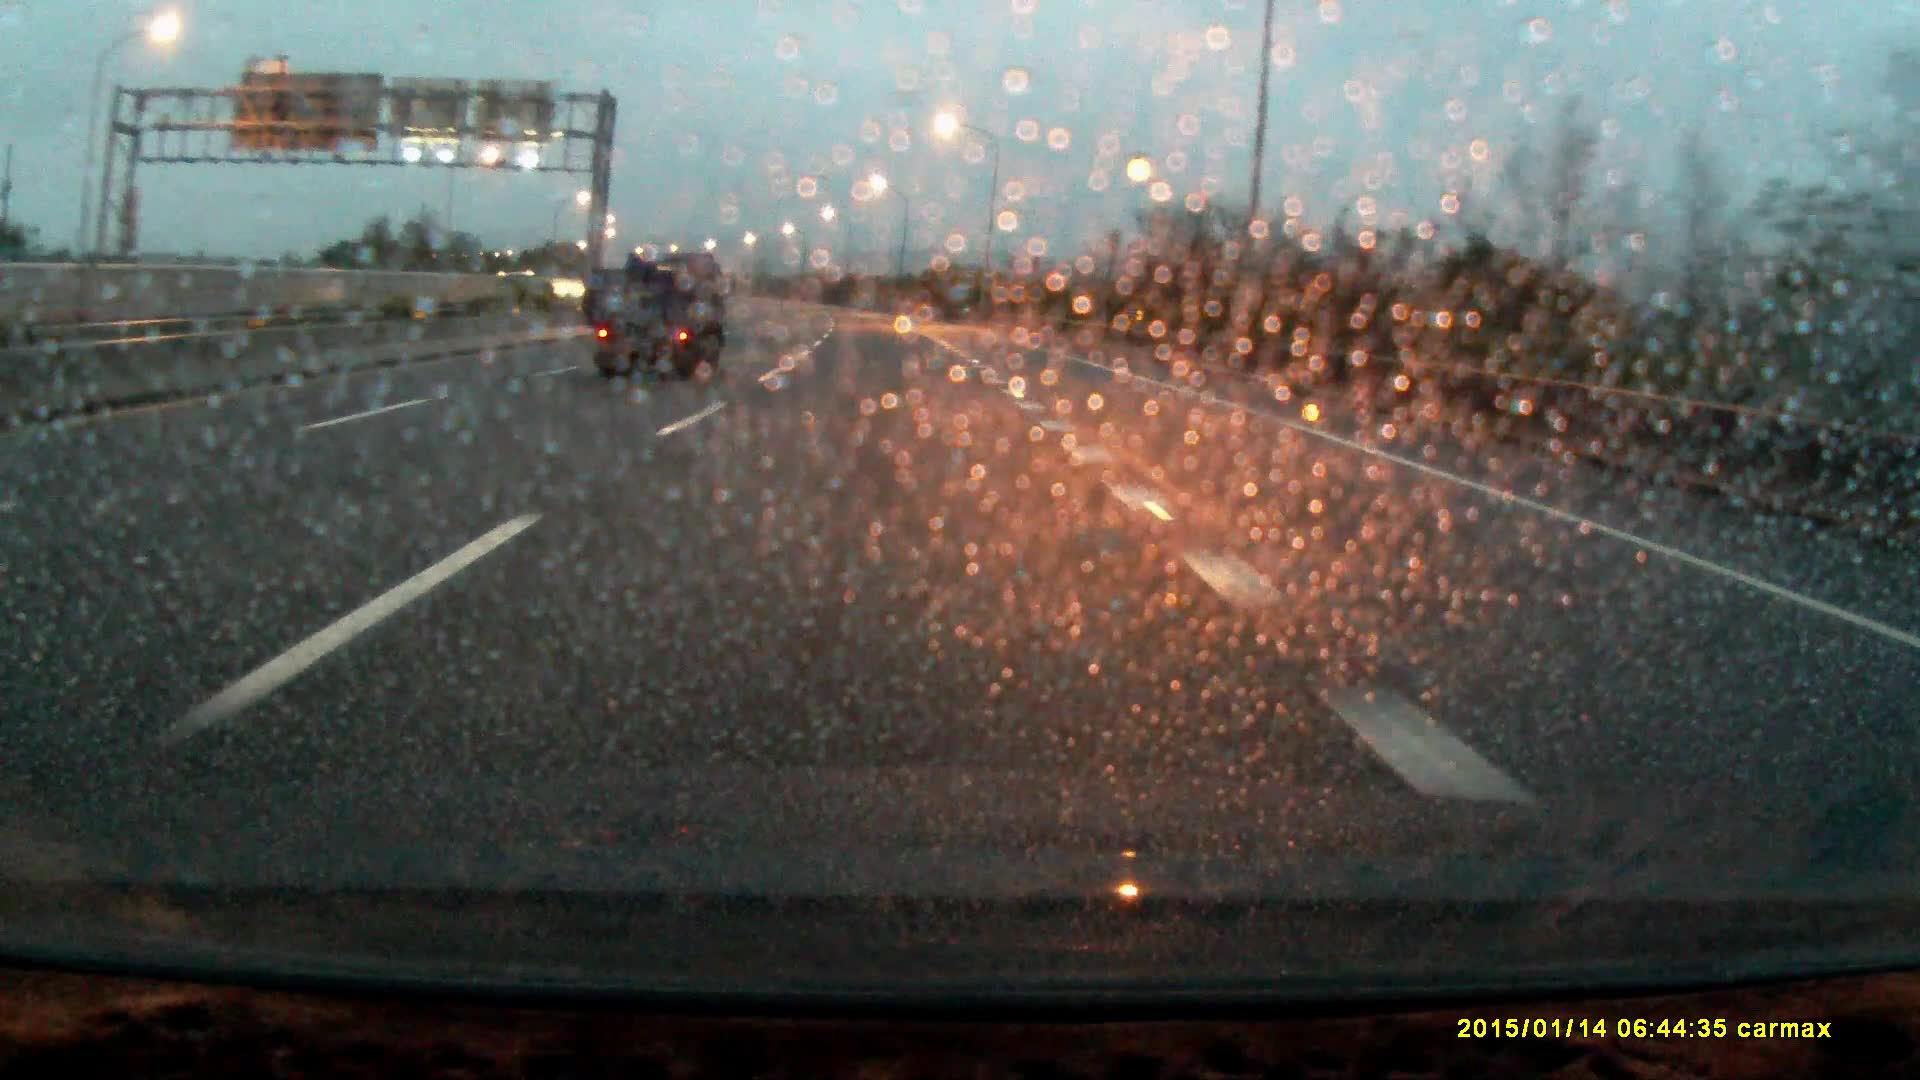vehicle: (589, 255, 731, 380), (496, 273, 574, 309)
